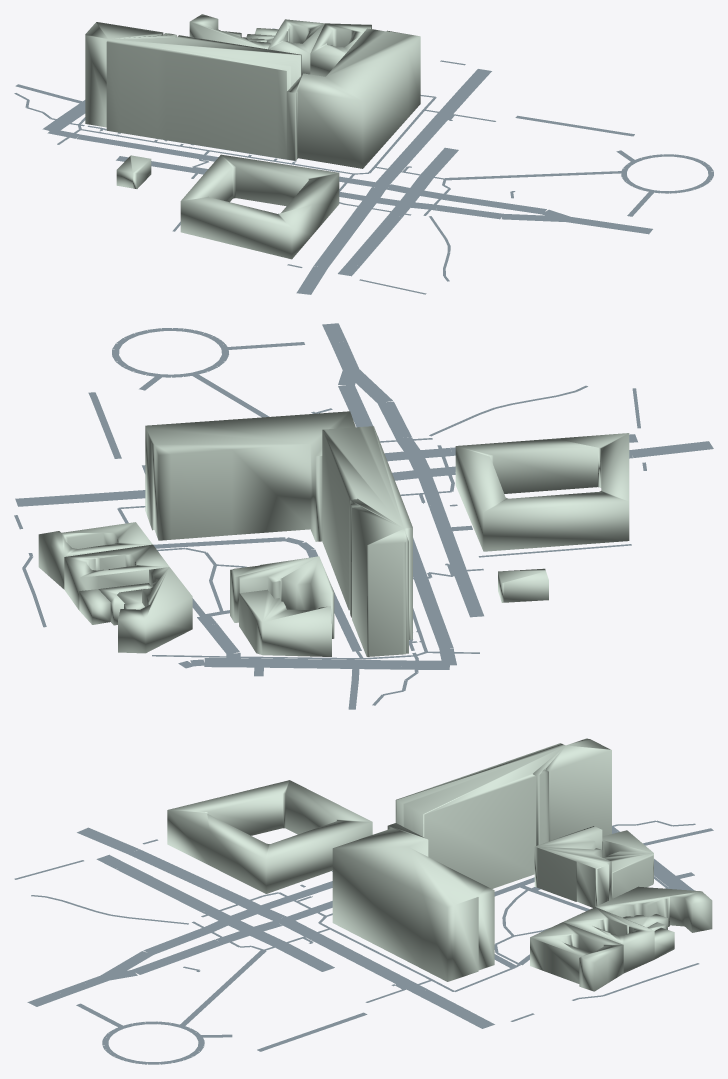
3 views of the same model, one above another, from view 1: azimuth 30°, elevation 25°; view 2: azimuth 150°, elevation 25°; view 3: azimuth 270°, elevation 25° (orthographic). The views are drawn at different scales.
Visible parts, largest first — view 1: way/23853133, way/23853131, relation/12706359, relation/2271922, relation/2271921, way/171826985, way/202156994, way/23853142, way/284493291, way/606078072, way/24913519, way/217530887 (+6 smaller); view 2: way/23853131, relation/12706359, way/23853133, way/23853138, way/23853142, way/237202146, relation/2271921, relation/2271922, way/156364570, way/217530887, way/606078072, way/51912365 (+9 smaller); view 3: way/23853133, way/23853131, relation/12706359, way/237202146, relation/2271922, way/23853142, relation/2271921, way/23853138, way/171826985, way/202156994, way/606078072, way/24913519 (+8 smaller).
Boxes of the visible parts, bbox=[...] form: way/23853133: bbox=[85, 22, 301, 159]; way/23853131: bbox=[286, 28, 420, 168]; relation/12706359: bbox=[180, 154, 339, 259]; relation/2271922: bbox=[310, 23, 371, 76]; relation/2271921: bbox=[268, 19, 324, 74]; way/171826985: bbox=[375, 89, 473, 185]; way/202156994: bbox=[338, 204, 410, 276]; way/23853142: bbox=[189, 14, 270, 49]; way/284493291: bbox=[417, 189, 569, 221]; way/606078072: bbox=[404, 202, 568, 221]; way/24913519: bbox=[314, 208, 370, 267]; way/217530887: bbox=[116, 155, 151, 188]; way/23853131: bbox=[145, 411, 355, 541]; relation/12706359: bbox=[455, 433, 629, 551]; way/23853133: bbox=[322, 426, 412, 656]; way/23853138: bbox=[239, 589, 331, 656]; way/23853142: bbox=[118, 567, 192, 653]; way/237202146: bbox=[230, 556, 334, 638]; relation/2271921: bbox=[64, 544, 169, 610]; relation/2271922: bbox=[38, 522, 152, 589]; way/156364570: bbox=[204, 658, 449, 669]; way/217530887: bbox=[498, 568, 548, 602]; way/606078072: bbox=[344, 368, 422, 454]; way/51912365: bbox=[153, 537, 361, 651]; way/23853133: bbox=[395, 738, 611, 888]; way/23853131: bbox=[332, 823, 494, 981]; relation/12706359: bbox=[167, 780, 372, 893]; way/237202146: bbox=[534, 826, 611, 907]; relation/2271922: bbox=[530, 922, 623, 991]; way/23853142: bbox=[596, 886, 712, 932]; relation/2271921: bbox=[563, 907, 654, 973]; way/23853138: bbox=[602, 830, 653, 898]; way/171826985: bbox=[282, 920, 459, 1010]; way/202156994: bbox=[96, 854, 234, 922]; way/606078072: bbox=[100, 918, 233, 979]; way/24913519: bbox=[128, 849, 246, 903].
Size of the model in its own units: 284 by 51 by 332.
